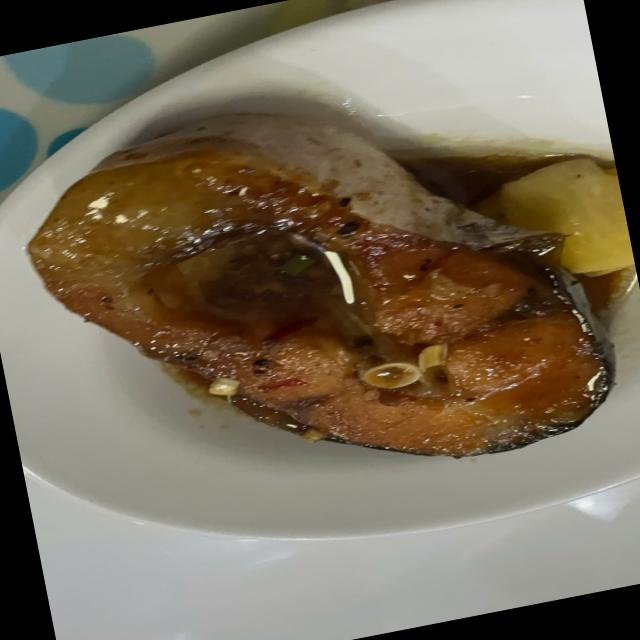ca kho: (26, 115, 613, 457)
